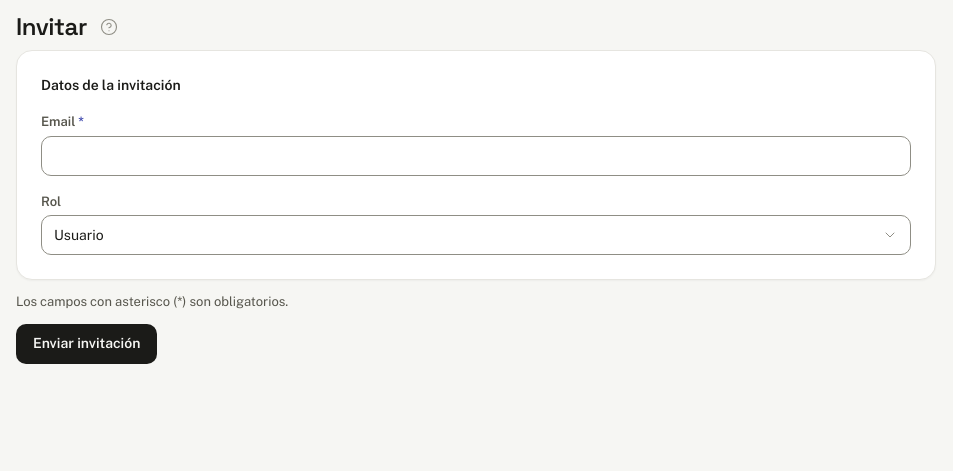
Test case: InvitationFormPage › error real del backend (409 duplicado) se muestra tal cual
The image size is (953, 471).
Type "dup@example.com" into the field labelled "Email" at (476, 156), box [41, 136, 911, 176]
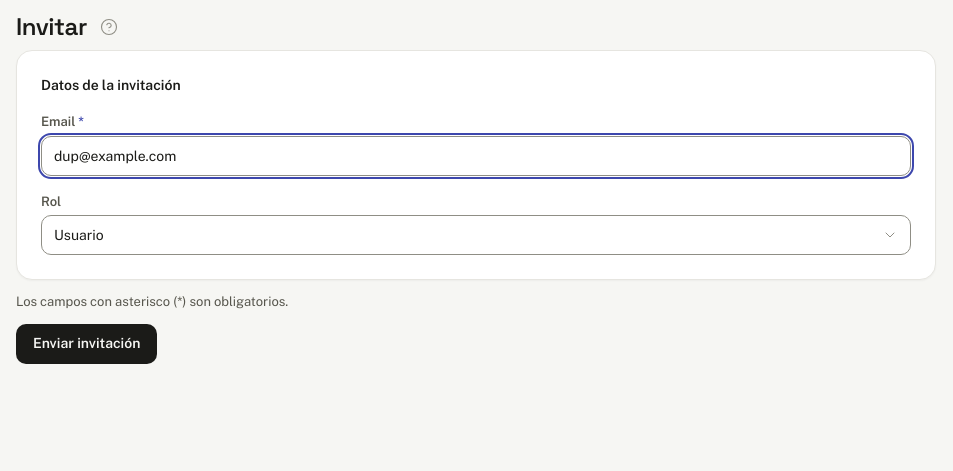
Click the button "Enviar invitación" at (87, 344), box [16, 324, 157, 364]
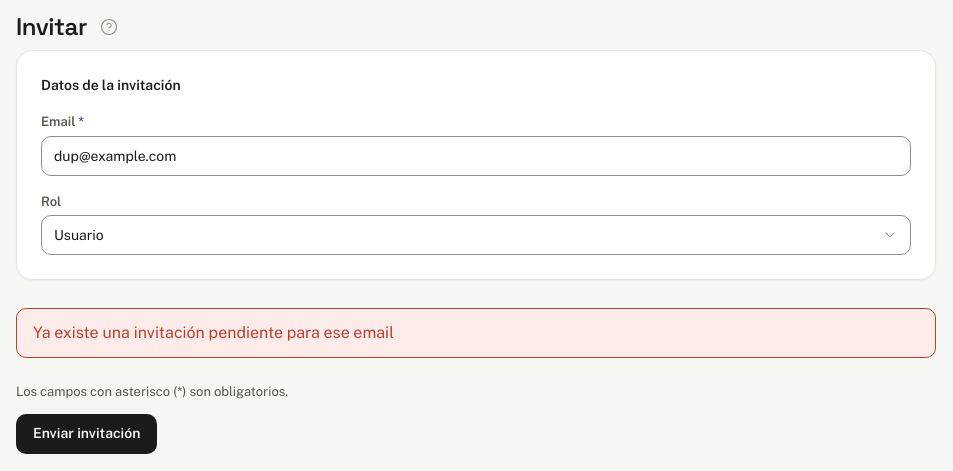
Expected: the text "Ya existe una invitación pendiente para ese email" is shown, [16, 308, 936, 358]
